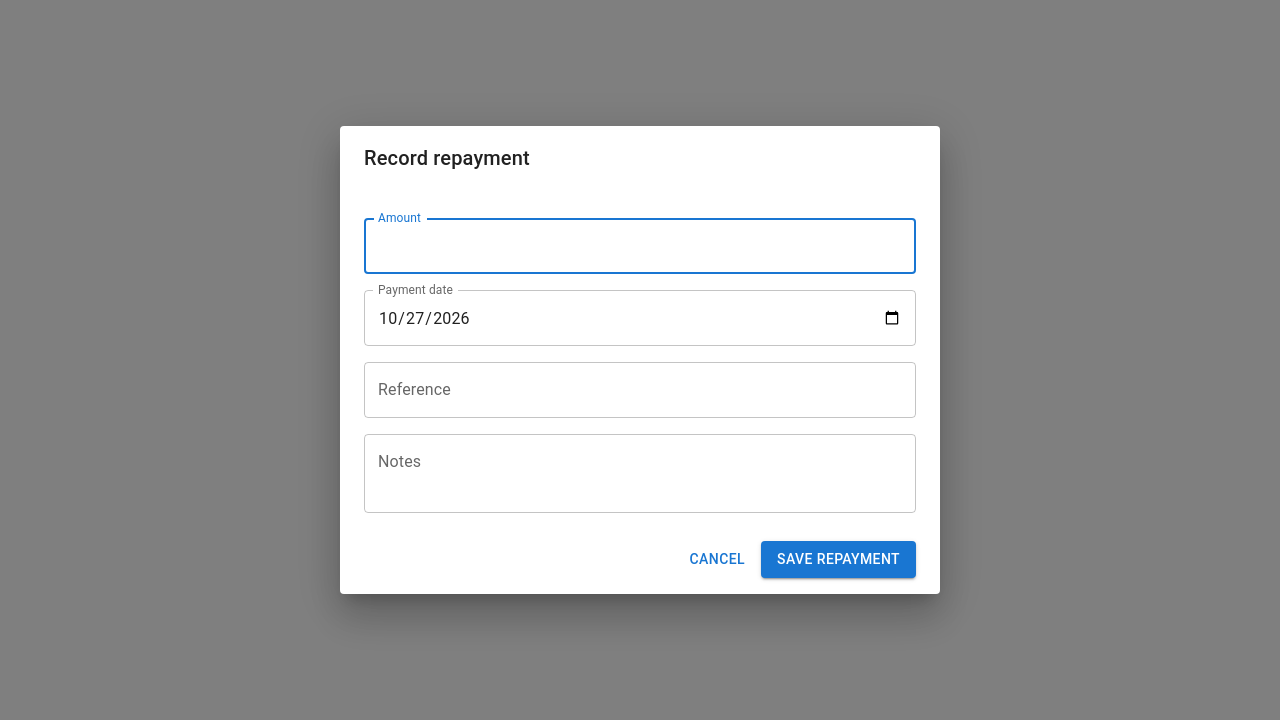
it: RepaymentDialog validation › does not submit a cleared payment date, and shows why
Type "5000" into the field labelled "Amount" at {"x": 640, "y": 246}, box top-left (364, 218), bottom-right (916, 274)
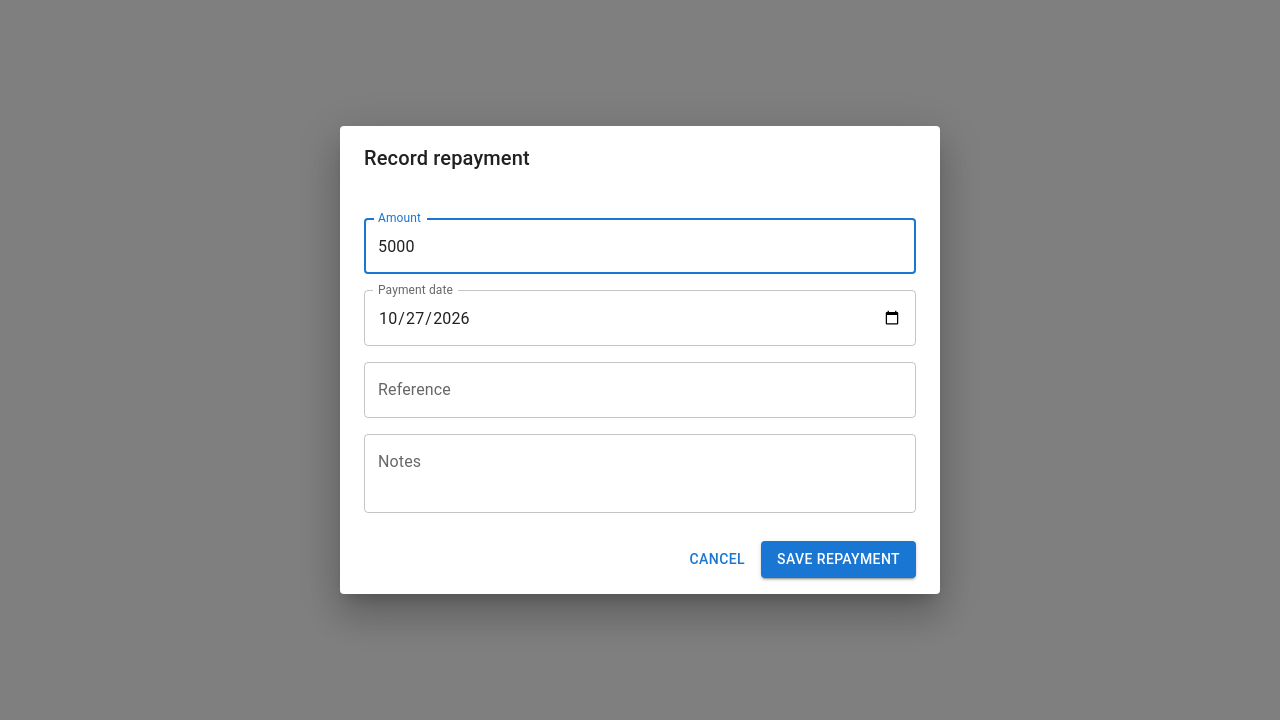
Clear the date field labelled "Payment date" at {"x": 640, "y": 318}, box top-left (364, 290), bottom-right (916, 346)
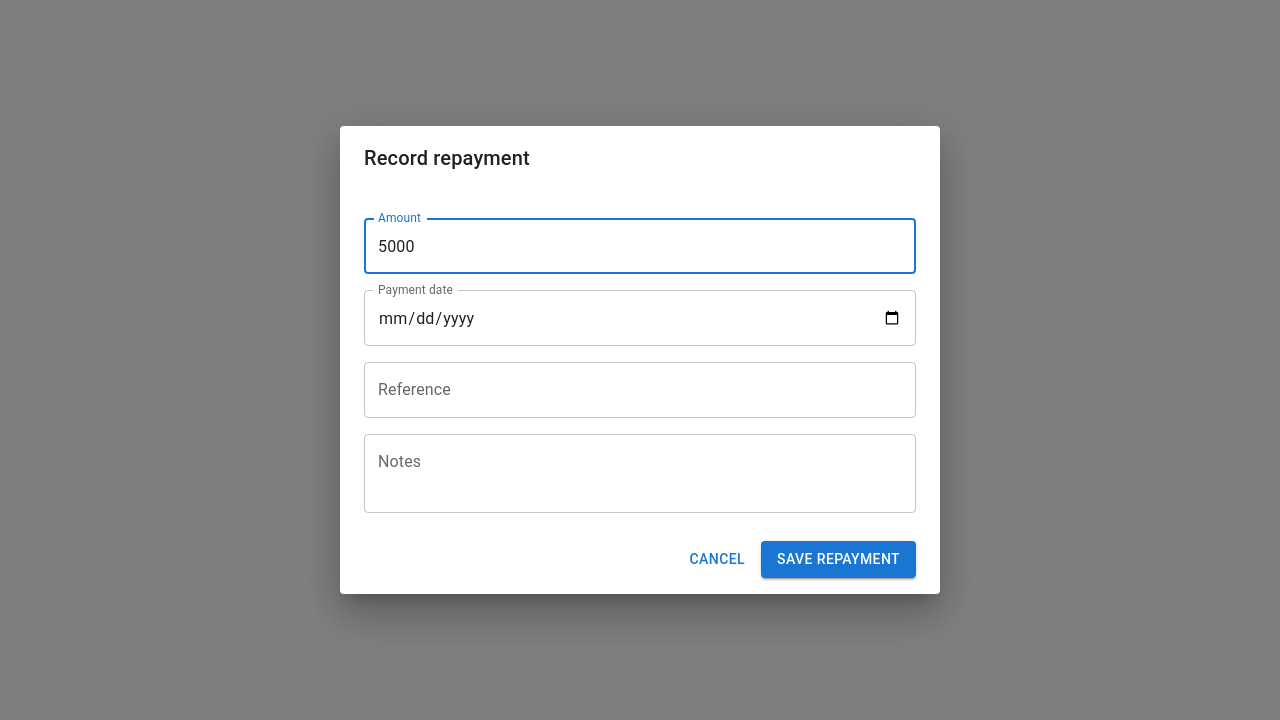
Click the button "Save repayment" at {"x": 838, "y": 560}, box top-left (761, 541), bottom-right (916, 578)
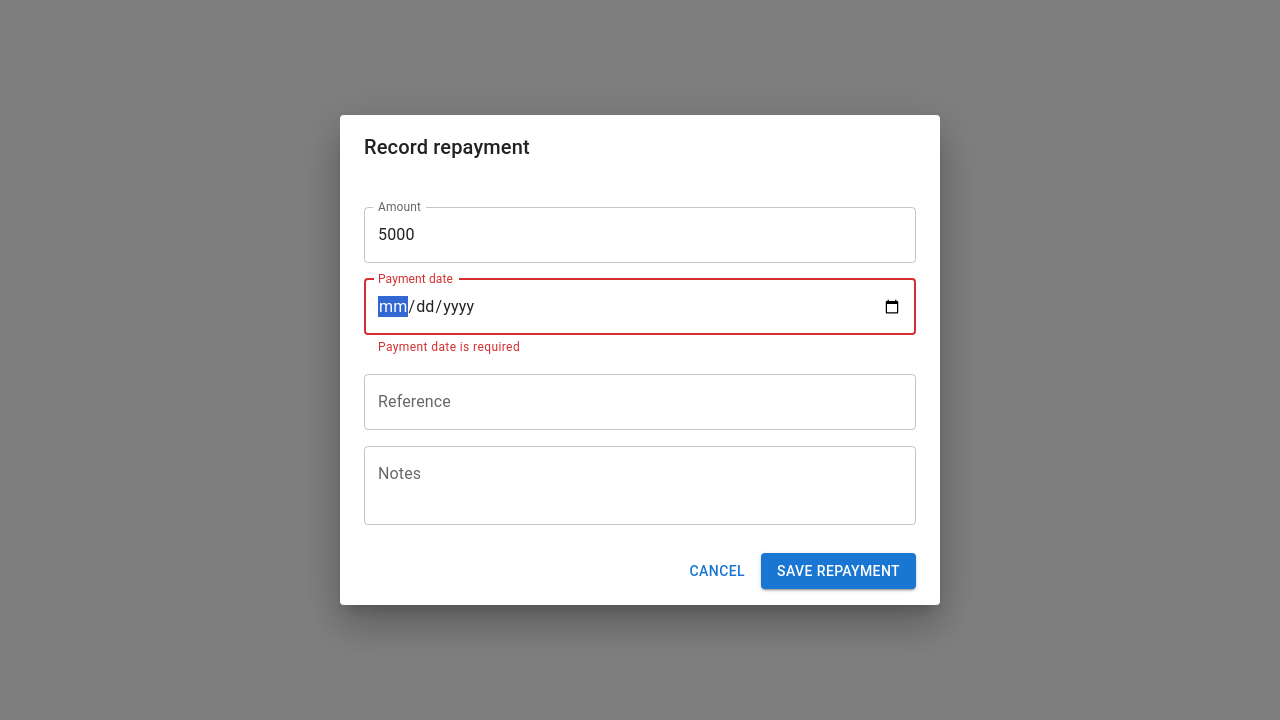
Now the text "Payment date is required" is shown, box top-left (378, 340), bottom-right (520, 354)
